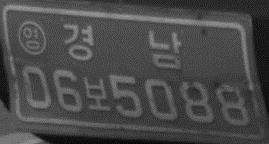0: (143, 77, 180, 120), (21, 64, 51, 109)
5: (108, 73, 143, 119)
6: (52, 68, 82, 113)
8: (179, 81, 216, 123), (216, 83, 250, 126)
경남_D: (62, 22, 182, 70)
보: (83, 74, 111, 113)
영: (18, 20, 48, 57)
